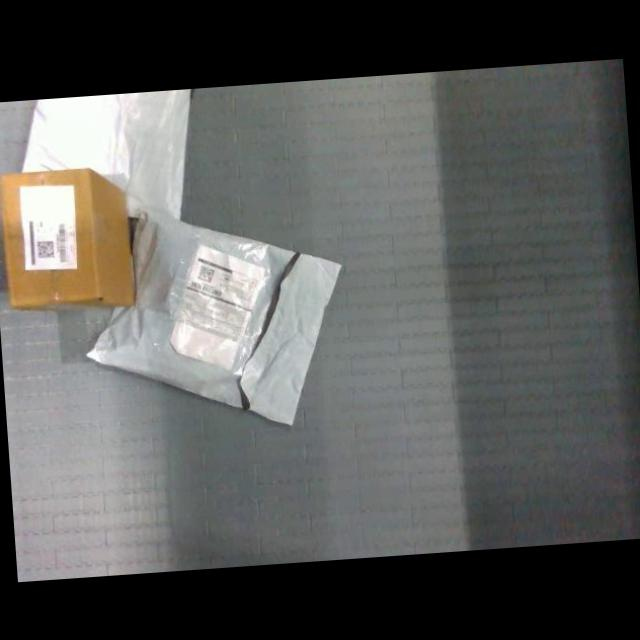box: (2, 168, 132, 306)
mailer: (88, 211, 339, 423), (22, 89, 189, 217)
